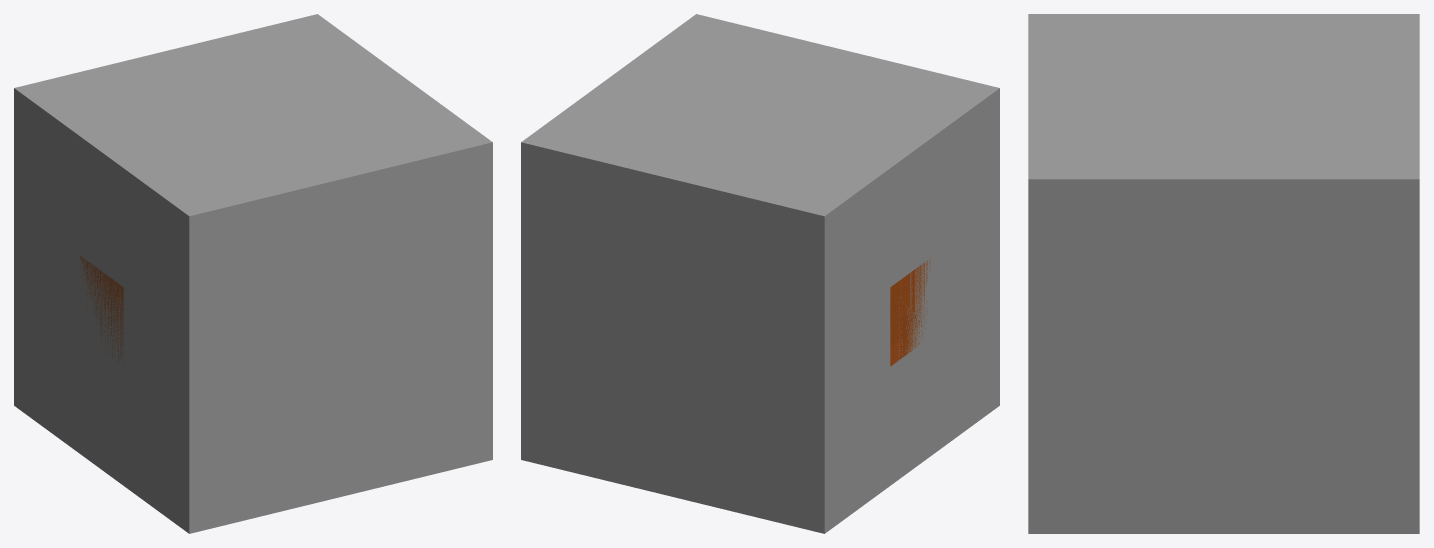
File: hub.obj
3 renders of one model, left to right at view 1: azimuth 30°, elevation 25°; view 2: azimuth 150°, elevation 25°; view 3: azimuth 270°, elevation 25°, orthographic. The views are drawn at different scales.
Parts seen in each view (by area): view 1: Minecraft_Block_Cube, Minecraft_2_Edge_Connectivity_Cube.002, main; view 2: Minecraft_Block_Cube, Minecraft_2_Edge_Connectivity_Cube.002, main; view 3: Minecraft_Block_Cube.
Part boxes in pixels (x1,y1,x2,y2): Minecraft_Block_Cube: (14,14,492,533); Minecraft_2_Edge_Connectivity_Cube.002: (14,88,340,533); main: (80,256,123,363); Minecraft_Block_Cube: (521,14,999,533); Minecraft_2_Edge_Connectivity_Cube.002: (673,88,999,533); main: (890,258,930,366); Minecraft_Block_Cube: (1028,14,1419,533).
Size of the model in its own units: 1 by 1 by 1.
2 materials, 1 textured.
